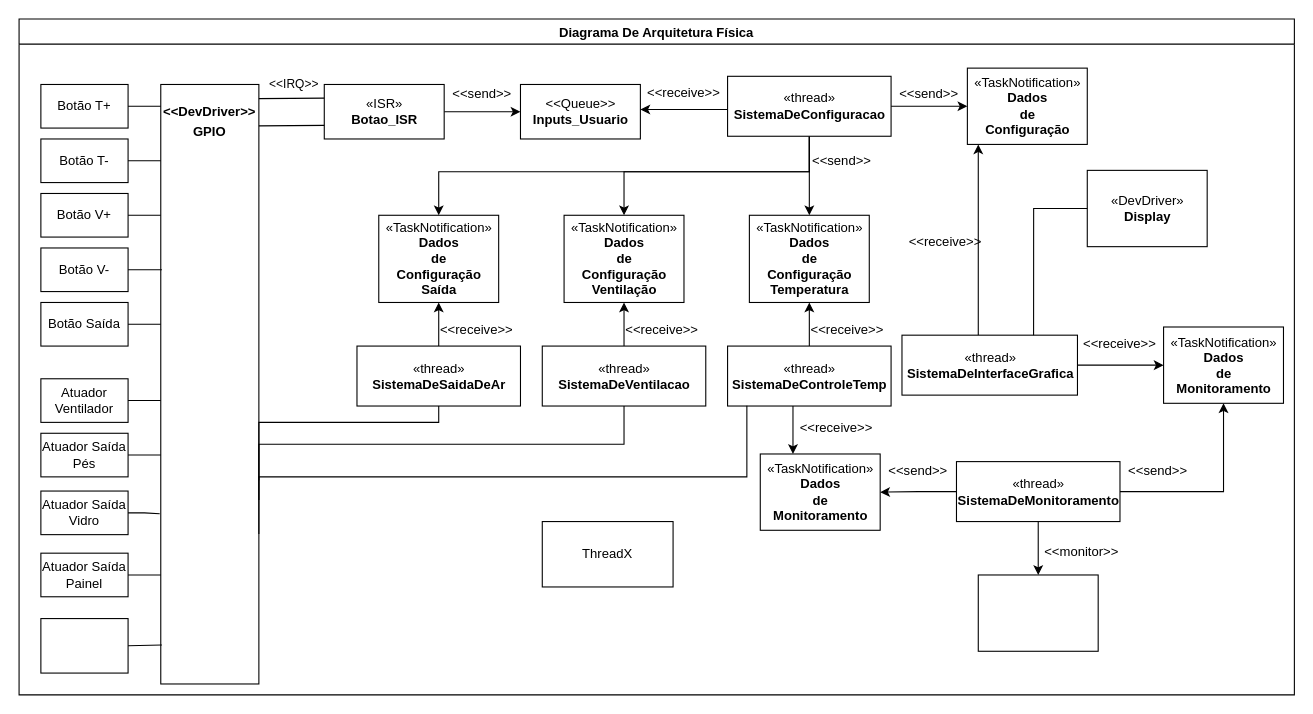
Image size: 1313x714. Some labels were removed from this diagram. The centre of each missing label's shape, as x and y in pixels:
Atuadores de Câmara Fria/Quente: (x=84, y=645)
«Sensor» Sensor de Temperatura: (x=1037, y=612)
